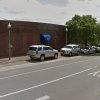Car: (58, 39, 85, 60)
